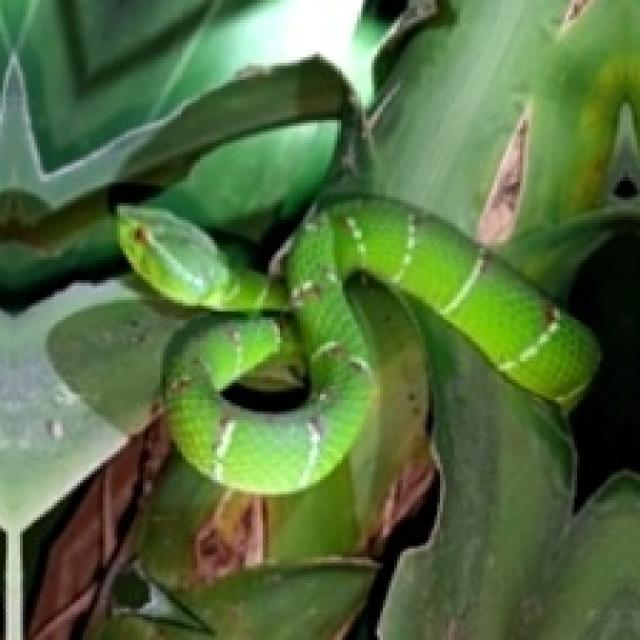north ph temple pitviper: (271, 0, 637, 417), (117, 206, 371, 491)
